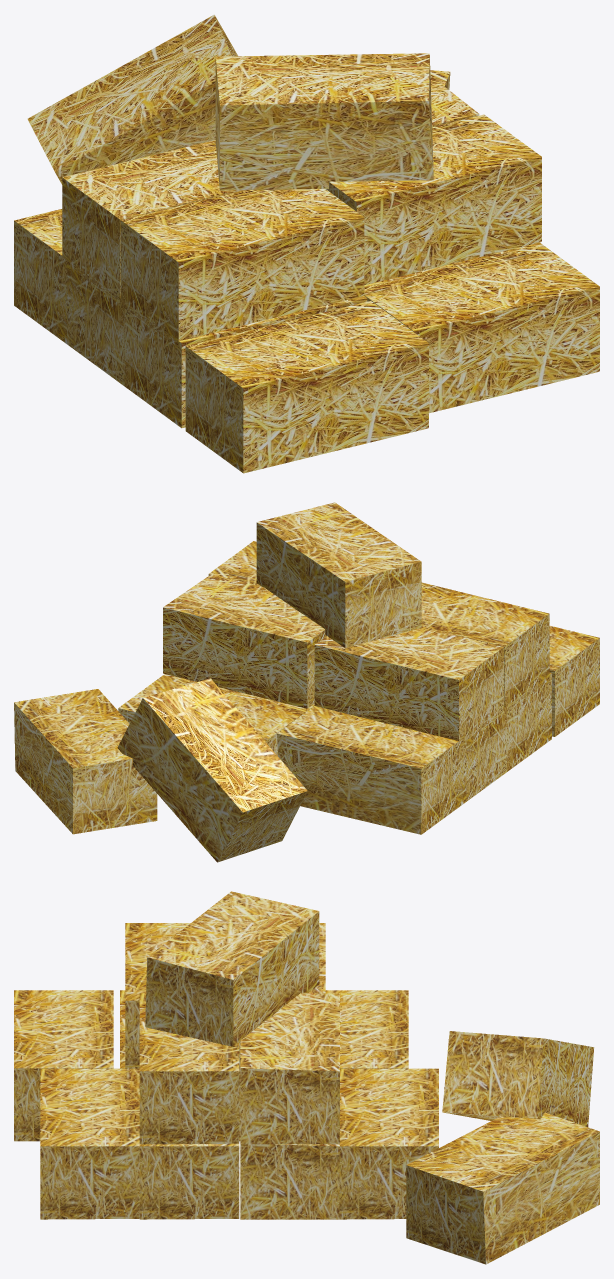
File: haybale_big.fbx
3 views of the same model, one above another, from view 1: azimuth 30°, elevation 25°; view 2: azimuth 150°, elevation 25°; view 3: azimuth 270°, elevation 25° (orthographic). The views are drawn at different scales.
Parts seen in each view (by area): view 1: polySurface13; view 2: polySurface13; view 3: polySurface13.
Part boxes in pixels (<box>): polySurface13: <box>14,14,599,473</box>; polySurface13: <box>14,502,599,862</box>; polySurface13: <box>14,891,599,1264</box>.
Size of the model in its own units: 75.94 by 38.64 by 93.39.
